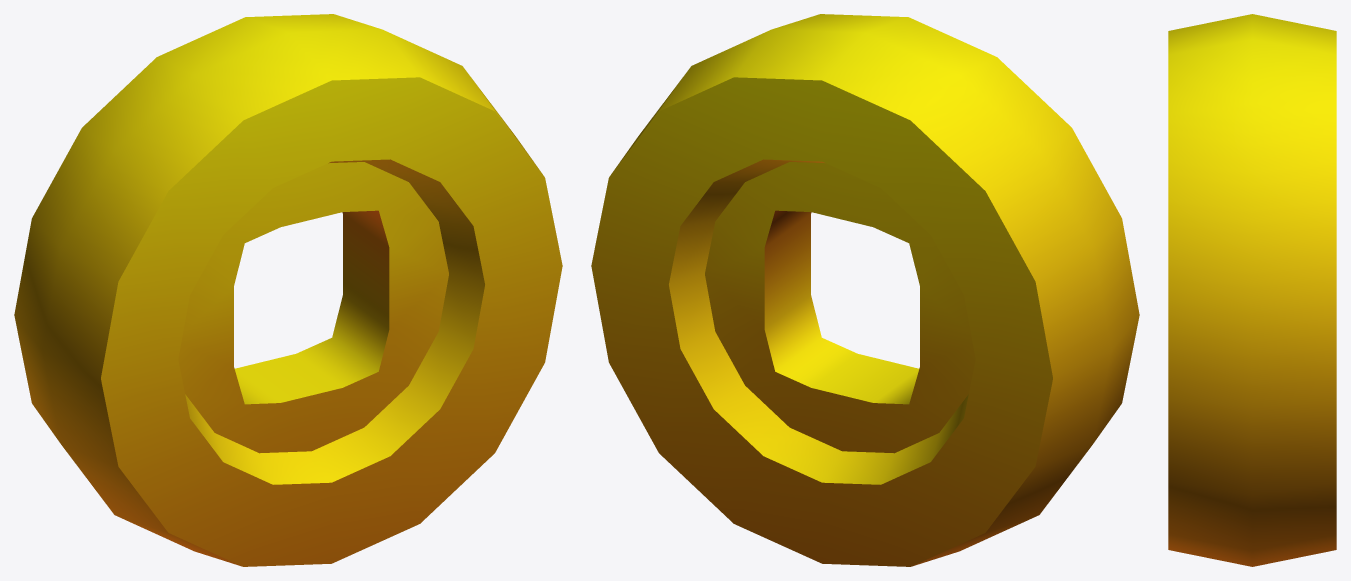
File: Gold_Hole_Coin_01.glb
3 renders of one model, left to right at view 1: azimuth 30°, elevation 25°; view 2: azimuth 150°, elevation 25°; view 3: azimuth 270°, elevation 25°, orthographic. The views are drawn at different scales.
Visible parts, largest first — view 1: Gold_Hole_Coin_01; view 2: Gold_Hole_Coin_01; view 3: Gold_Hole_Coin_01.
Boxes of the visible parts, bbox=[...] form: Gold_Hole_Coin_01: bbox=[14, 14, 562, 566]; Gold_Hole_Coin_01: bbox=[591, 14, 1139, 566]; Gold_Hole_Coin_01: bbox=[1168, 14, 1336, 566].
Bounding box in the file's own units: 0.2475 × 0.2475 × 0.0754.
1 material, 1 textured.
